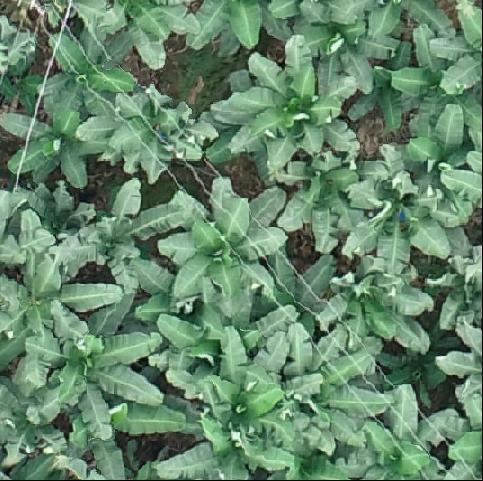Banana-plant: (24, 307, 158, 433), (228, 35, 355, 165), (164, 181, 289, 297), (182, 329, 320, 426), (69, 179, 181, 293), (352, 147, 451, 269), (63, 383, 187, 479), (162, 393, 295, 481), (83, 88, 211, 178), (346, 385, 461, 481), (322, 259, 435, 355), (2, 253, 121, 339), (396, 24, 483, 129), (294, 7, 397, 93), (2, 108, 104, 188), (282, 153, 364, 252), (40, 32, 135, 113), (410, 101, 483, 200), (156, 311, 255, 377), (379, 338, 452, 399), (432, 245, 483, 329)
